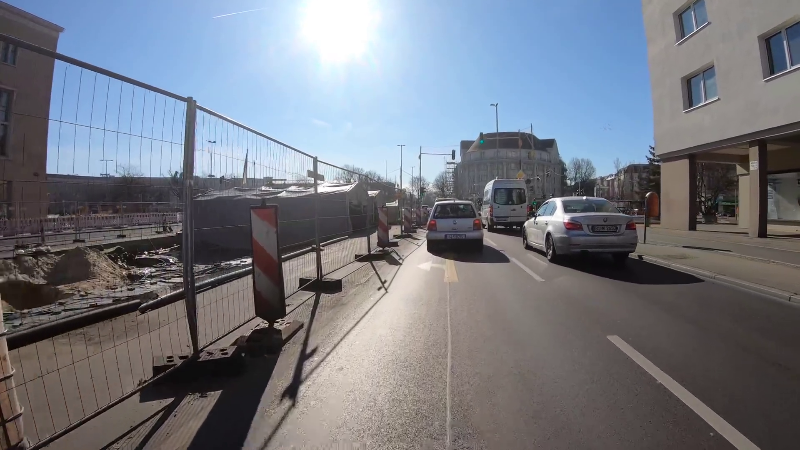Plate: (591, 223, 620, 232), (443, 232, 468, 240)
